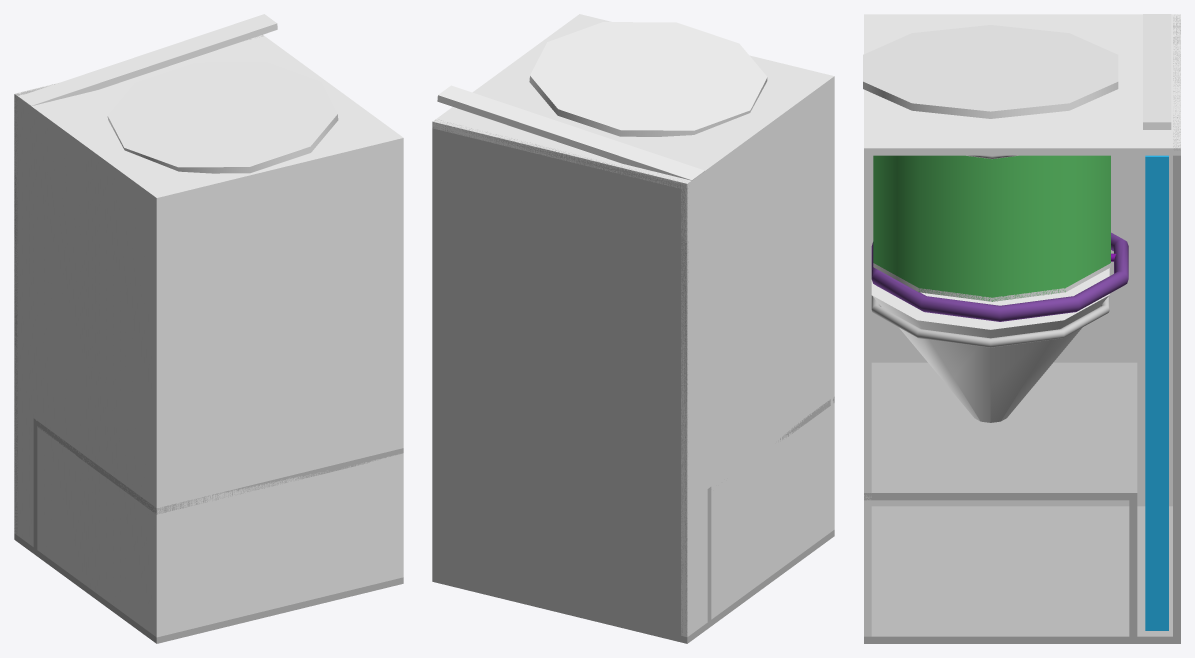
File: Shimizu.obj
3 views of the same model, side by side, from view 1: azimuth 30°, elevation 25°; view 2: azimuth 150°, elevation 25°; view 3: azimuth 270°, elevation 25° (orthographic). The views are drawn at different scales.
Parts seen in each view (by area): view 1: 008_Box_4, 009_Box_3, 000_Cylinder_2, 007_Box_5, 001_Box_6, 011_Box, 006_Box_7, 010_Box_2, 005_Box_8; view 2: 010_Box_2, 009_Box_3, 000_Cylinder_2, 007_Box_5, 001_Box_6, 011_Box, 008_Box_4, 005_Box_8; view 3: 011_Box, 006_Box_7, 018_Tube_1, 007_Box_5, 000_Cylinder_2, 009_Box_3, 019_Cone, 002_Box_1, 022_Torus, 010_Box_2, 008_Box_4, 001_Box_6 (+3 smaller).
Part boxes in pixels (left/top/right/bottom): 008_Box_4: left=153, top=138, right=403, bottom=637; 009_Box_3: left=14, top=92, right=162, bottom=637; 000_Cylinder_2: left=107, top=62, right=338, bottom=173; 007_Box_5: left=14, top=35, right=403, bottom=204; 001_Box_6: left=18, top=14, right=277, bottom=106; 011_Box: left=14, top=533, right=403, bottom=643; 006_Box_7: left=37, top=421, right=403, bottom=514; 010_Box_2: left=14, top=35, right=263, bottom=534; 005_Box_8: left=33, top=418, right=37, bottom=549; 010_Box_2: left=432, top=119, right=688, bottom=636; 009_Box_3: left=681, top=79, right=834, bottom=636; 000_Cylinder_2: left=529, top=22, right=767, bottom=136; 007_Box_5: left=432, top=14, right=834, bottom=190; 001_Box_6: left=437, top=85, right=704, bottom=180; 011_Box: left=432, top=530, right=834, bottom=643; 008_Box_4: left=576, top=14, right=834, bottom=531; 005_Box_8: left=707, top=487, right=711, bottom=621; 011_Box: left=864, top=506, right=1180, bottom=643; 006_Box_7: left=864, top=362, right=1133, bottom=500; 018_Tube_1: left=873, top=155, right=1110, bottom=301; 007_Box_5: left=864, top=14, right=1180, bottom=155; 000_Cylinder_2: left=863, top=25, right=1118, bottom=118; 009_Box_3: left=864, top=14, right=1180, bottom=506; 019_Cone: left=871, top=268, right=1109, bottom=422; 002_Box_1: left=1145, top=155, right=1168, bottom=630; 022_Torus: left=871, top=232, right=1128, bottom=321; 010_Box_2: left=1173, top=15, right=1180, bottom=636; 008_Box_4: left=864, top=15, right=871, bottom=636; 001_Box_6: left=1143, top=14, right=1171, bottom=129.
Size of the model in its own units: 200 by 363 by 200.
